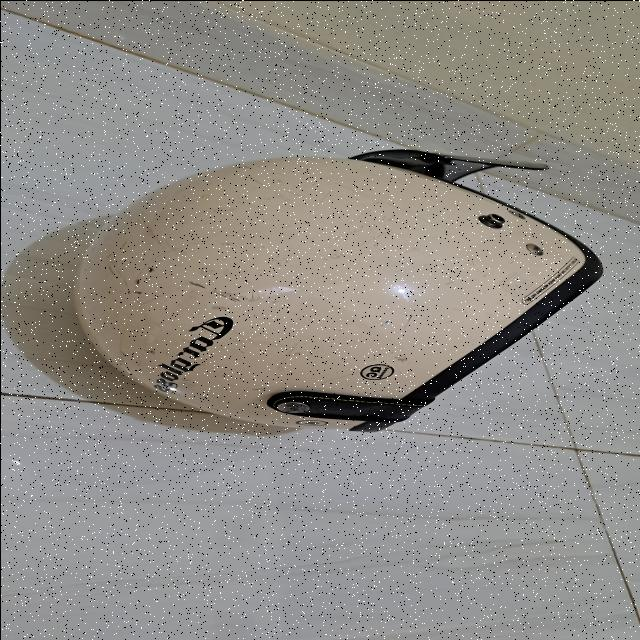Helmet: (72, 156, 603, 432)
